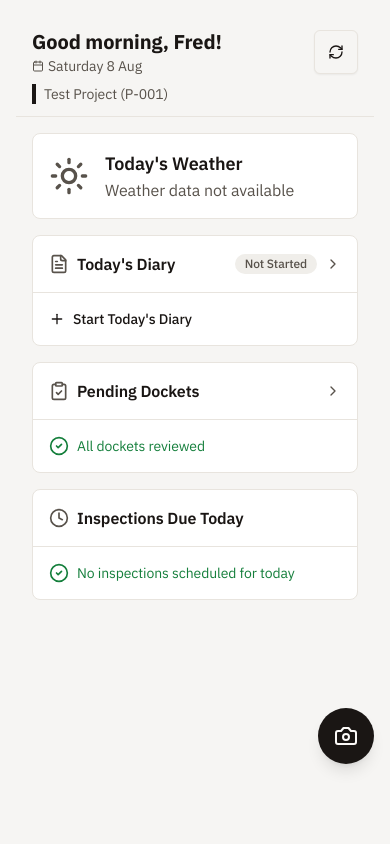
foreman mobile capture is a single shared workflow on /dashboard › opens that one shared modal from the dashboard quick-capture FAB
Check: the heading "Good morning, Fred!" is shown, box x1=32 y1=28 x2=222 y2=56
// Expand the FAB, then tap Photo.
Click the 4th button. click: {"x": 346, "y": 736}
box: x1=318 y1=708 x2=374 y2=764
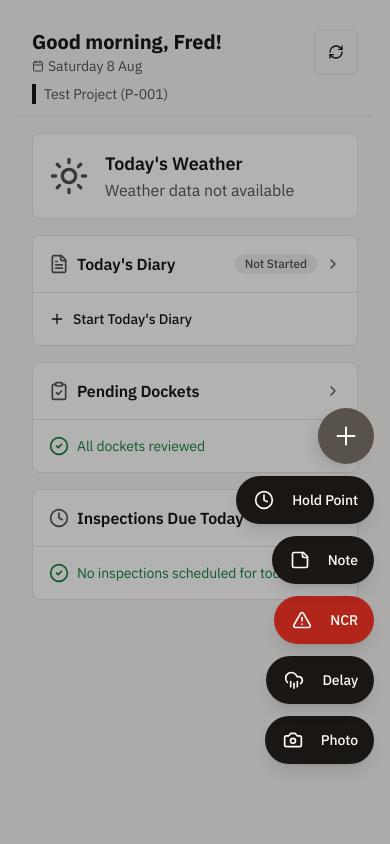
Click the button "Photo". click: {"x": 319, "y": 740}
box: x1=265 y1=716 x2=374 y2=764
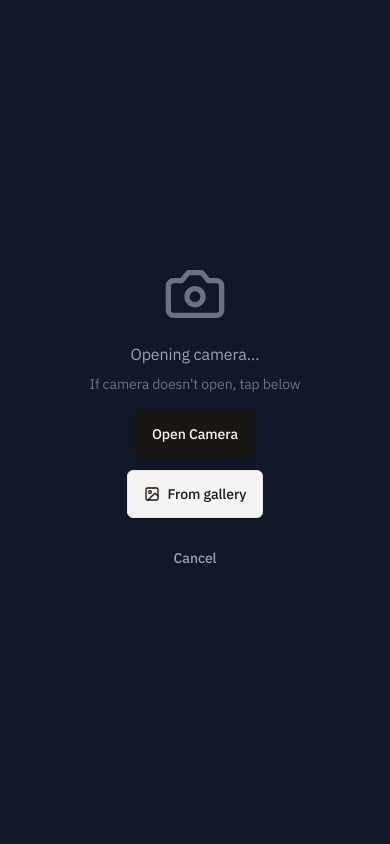
Check: the text "Opening camera..." is shown, box x1=130 y1=342 x2=260 y2=366
Check: the number of elements with class "z-50" is 1
